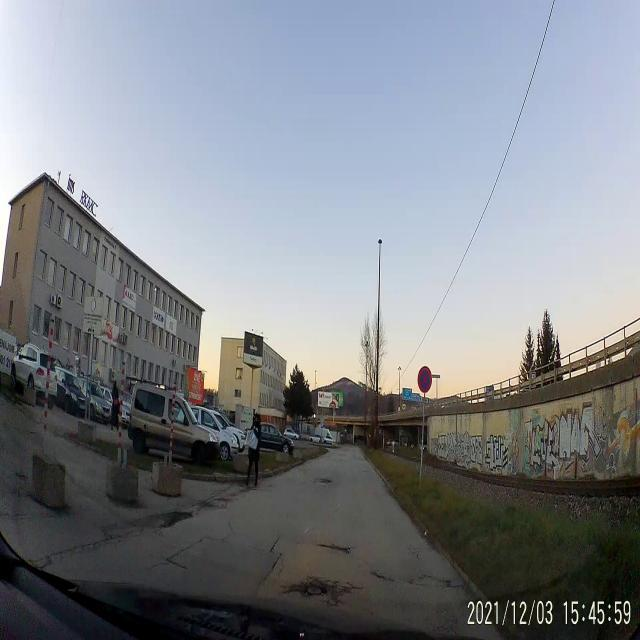Pothole: (286, 570, 352, 608), (314, 540, 354, 558), (430, 568, 453, 598), (368, 569, 394, 585), (313, 474, 332, 490)
